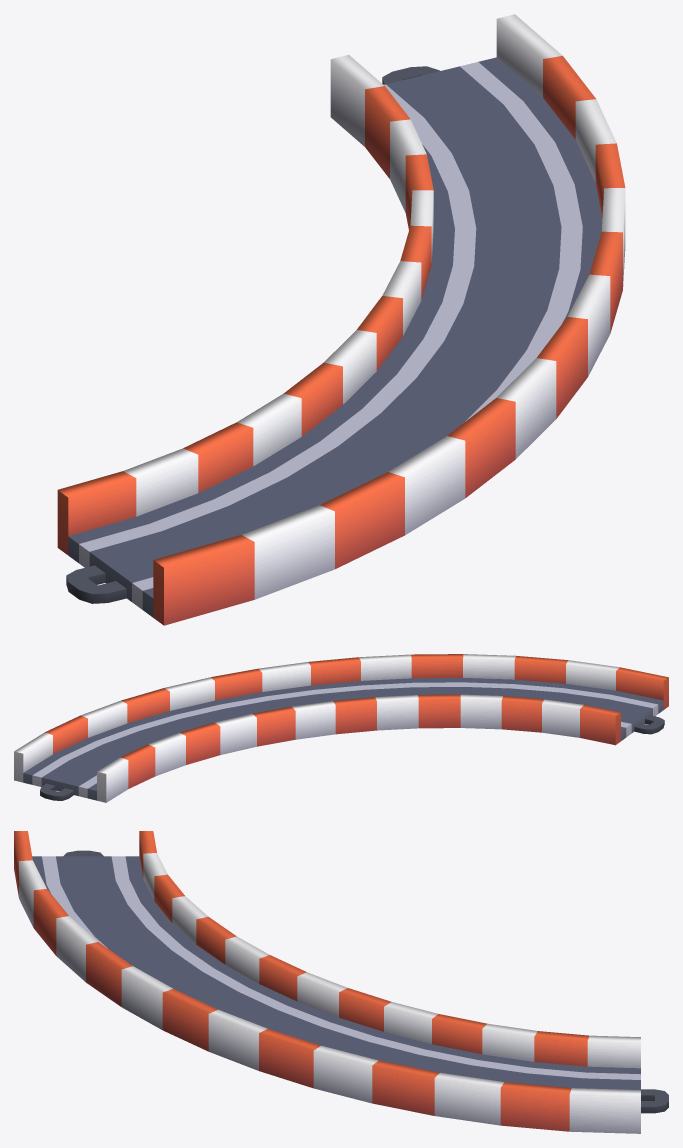
Rendered from track-road-narrow-corner-large.glb.
3 views of the same model, one above another, from view 1: azimuth 30°, elevation 25°; view 2: azimuth 150°, elevation 25°; view 3: azimuth 270°, elevation 25° (orthographic). The views are drawn at different scales.
Parts seen in each view (by area): view 1: track-road-narrow-corner-large; view 2: track-road-narrow-corner-large; view 3: track-road-narrow-corner-large.
Part boxes in pixels (x1,y1,x2,y2): track-road-narrow-corner-large: (57,14,625,625); track-road-narrow-corner-large: (14,654,668,802); track-road-narrow-corner-large: (14,831,668,1133).
Bounding box in the file's own units: 14.1 × 0.9 × 14.1.
1 material, 1 textured.
